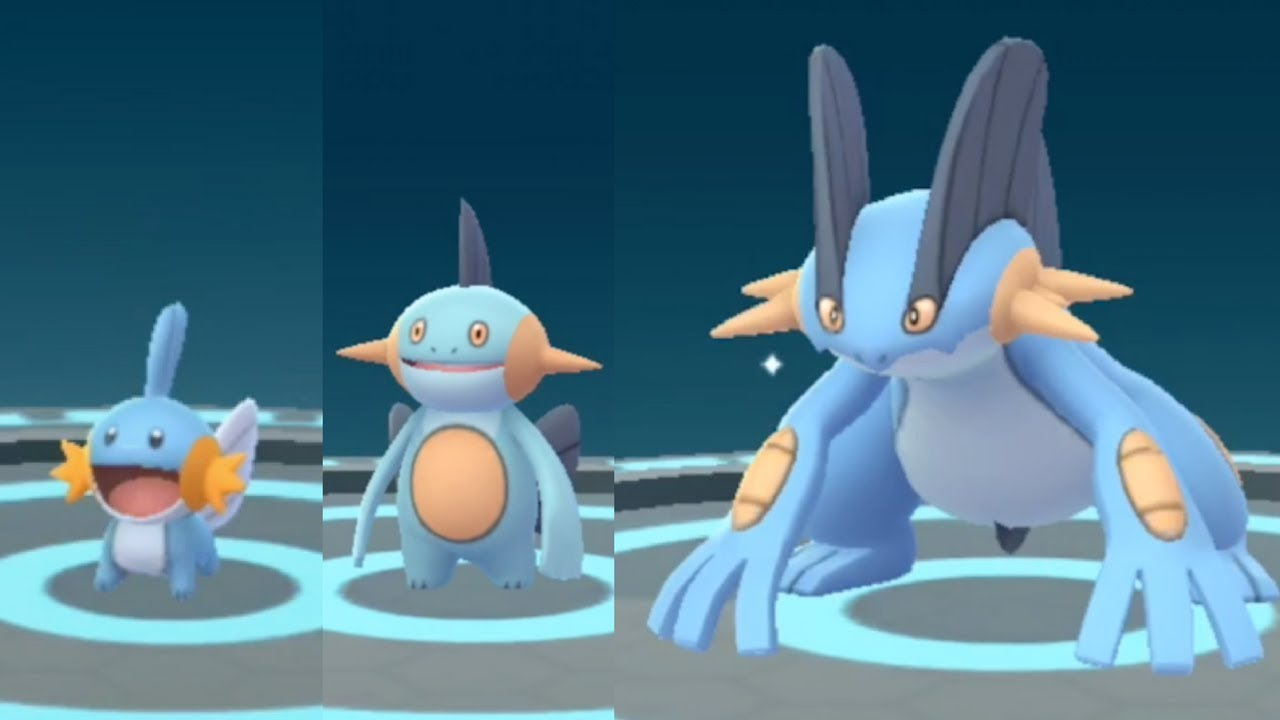mudkip: (51, 291, 269, 602)
